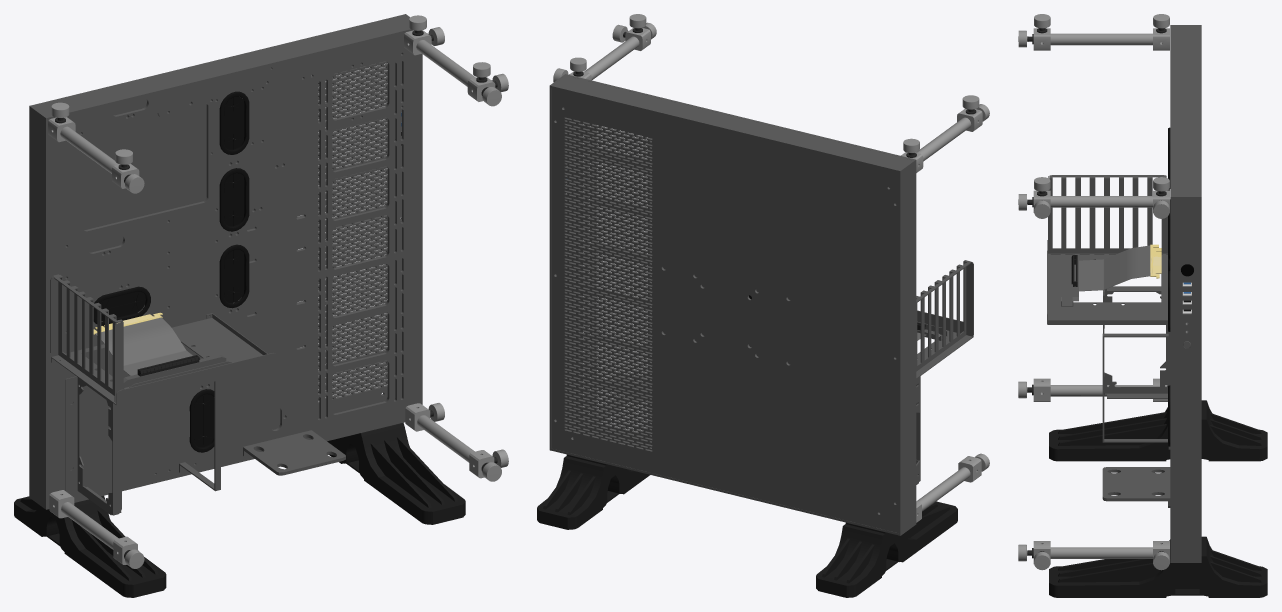
The model's file is sketchfab-thermaltake-core-p5.glb.
3 renders of one model, left to right at view 1: azimuth 30°, elevation 25°; view 2: azimuth 150°, elevation 25°; view 3: azimuth 270°, elevation 25°, orthographic. The views are drawn at different scales.
Visible parts, largest first — view 1: pCube884, BackPanel, Foot, pCube889, GPU_Bracket1, Foot1, pCube890, pCube1235, PSU_Bracket1, pCube1218, nurbsToPoly2, pCylinder97 (+10 smaller); view 2: BackPanel, pCube889, Foot1, pCube890, Foot, pCube884, pCube1235, pCube896, GPU_Bracket1, pCube891, pCylinder151, pCylinder150 (+1 smaller); view 3: pCube896, Foot, Foot1, pCube890, GPU_Bracket1, pCube1235, pCube1218, nurbsToPoly2, pCube884, PSU_Bracket1, pCylinder150, pCylinder151 (+8 smaller).
Part boxes in pixels (x1,y1,x2,y2): pCube884: (44, 28, 422, 509); BackPanel: (83, 53, 401, 436); Foot: (327, 422, 465, 524); pCube889: (29, 105, 46, 507); GPU_Bracket1: (51, 313, 277, 405); Foot1: (14, 496, 166, 597); pCube890: (32, 14, 409, 116); pCube1235: (50, 274, 123, 402); PSU_Bracket1: (65, 376, 121, 515); pCube1218: (243, 430, 345, 475); nurbsToPoly2: (95, 317, 192, 375); pCylinder97: (219, 168, 249, 231); BackPanel: (552, 88, 898, 532); pCube889: (898, 160, 914, 535); Foot1: (816, 501, 957, 597); pCube890: (551, 76, 911, 172); Foot: (537, 431, 649, 529); pCube884: (564, 74, 916, 525); pCube1235: (916, 260, 973, 371); pCube896: (549, 75, 565, 450); GPU_Bracket1: (916, 310, 973, 378); pCube891: (551, 448, 898, 535); pCylinder151: (584, 36, 639, 79); pCylinder150: (916, 117, 971, 161); pCube896: (1173, 196, 1201, 562); Foot: (1049, 536, 1267, 597); Foot1: (1049, 400, 1267, 461); pCube890: (1173, 26, 1201, 195); GPU_Bracket1: (1047, 240, 1167, 328); pCube1235: (1048, 175, 1169, 253); pCube1218: (1102, 467, 1170, 507); nurbsToPoly2: (1079, 245, 1150, 291); pCube884: (1170, 25, 1173, 562); PSU_Bracket1: (1103, 286, 1170, 398); pCylinder150: (1050, 33, 1152, 45); pCylinder151: (1050, 196, 1152, 207).
Bounding box in the file's own units: 17.73 × 19.59 × 10.5.
Materials: 14 (1 with a texture image).
